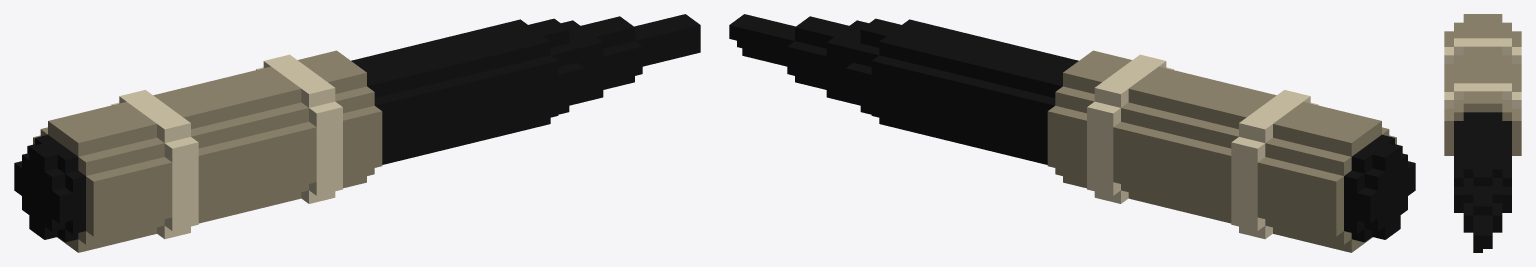
Rendered from survival_marker.glb.
The picture shows the model from 3 angles, left to right: view 1: azimuth 30°, elevation 25°; view 2: azimuth 150°, elevation 25°; view 3: azimuth 270°, elevation 25°; orthographic projection. The views are drawn at different scales.
Visible parts, largest first — view 1: survival_marker:compound; view 2: survival_marker:compound; view 3: survival_marker:compound.
Part boxes in pixels (x1,y1,x2,y2): survival_marker:compound: (14, 14, 700, 252); survival_marker:compound: (729, 14, 1415, 252); survival_marker:compound: (1444, 14, 1521, 252).
Bounding box in the file's own units: 0.1 × 0.016 × 0.016.
